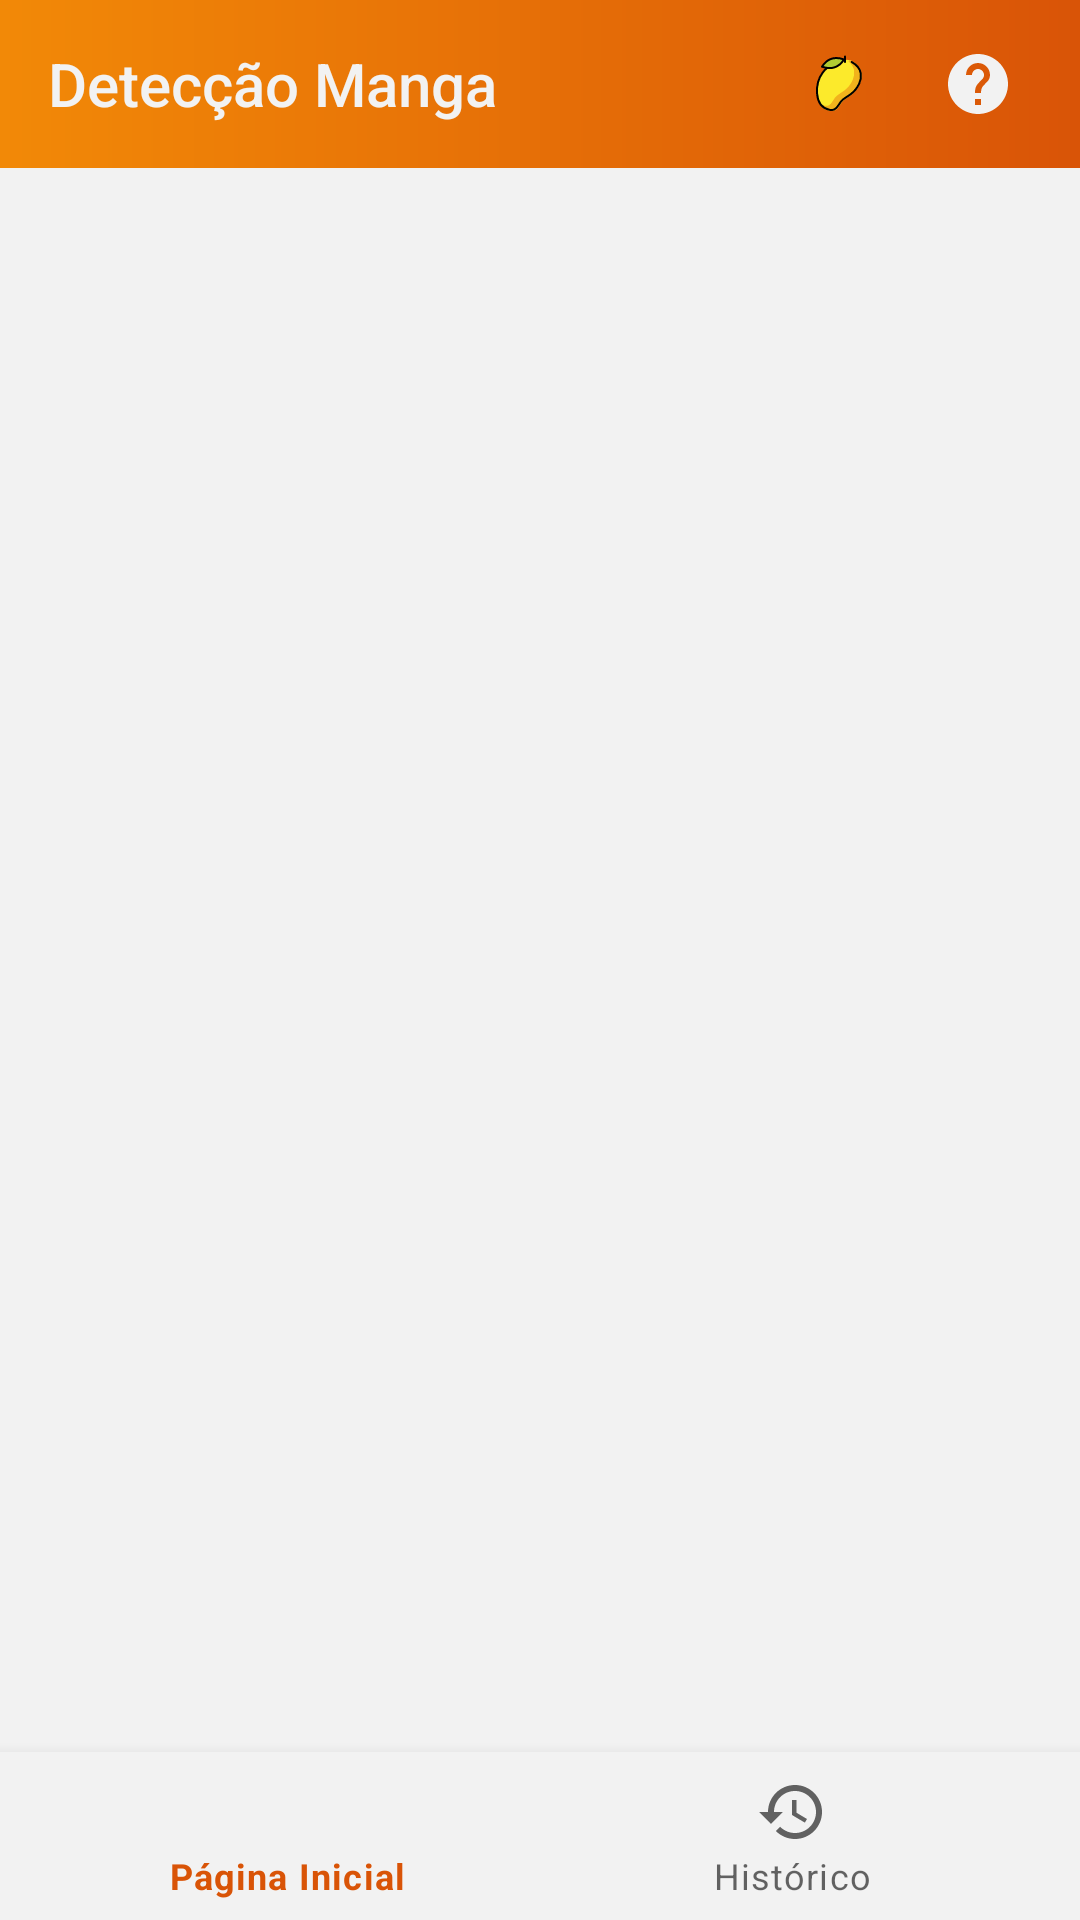

Named icons in this screenshot (1080px×1920px) and their centers, [x,y]:
help: [978,84]
mango: [839,83]
